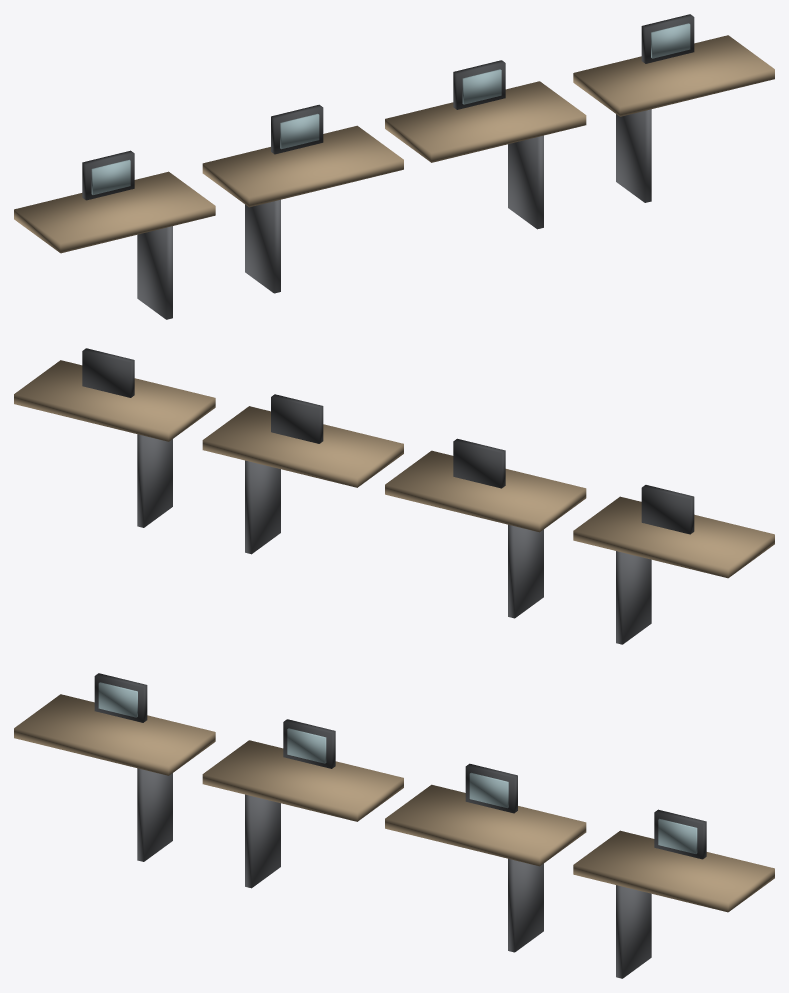
File: newsroom_desk_cluster__cluster.glb
The picture shows the model from 3 angles, top to bottom: view 1: azimuth 30°, elevation 25°; view 2: azimuth 150°, elevation 25°; view 3: azimuth 330°, elevation 25°; orthographic projection.
Visible parts, largest first — view 1: world; view 2: world; view 3: world.
Part boxes in pixels (x1,y1,x2,y2): world: [14, 14, 774, 319]; world: [14, 348, 774, 644]; world: [14, 673, 774, 978].
Size of the model in its own units: 5.3 by 1.11 by 0.6.
